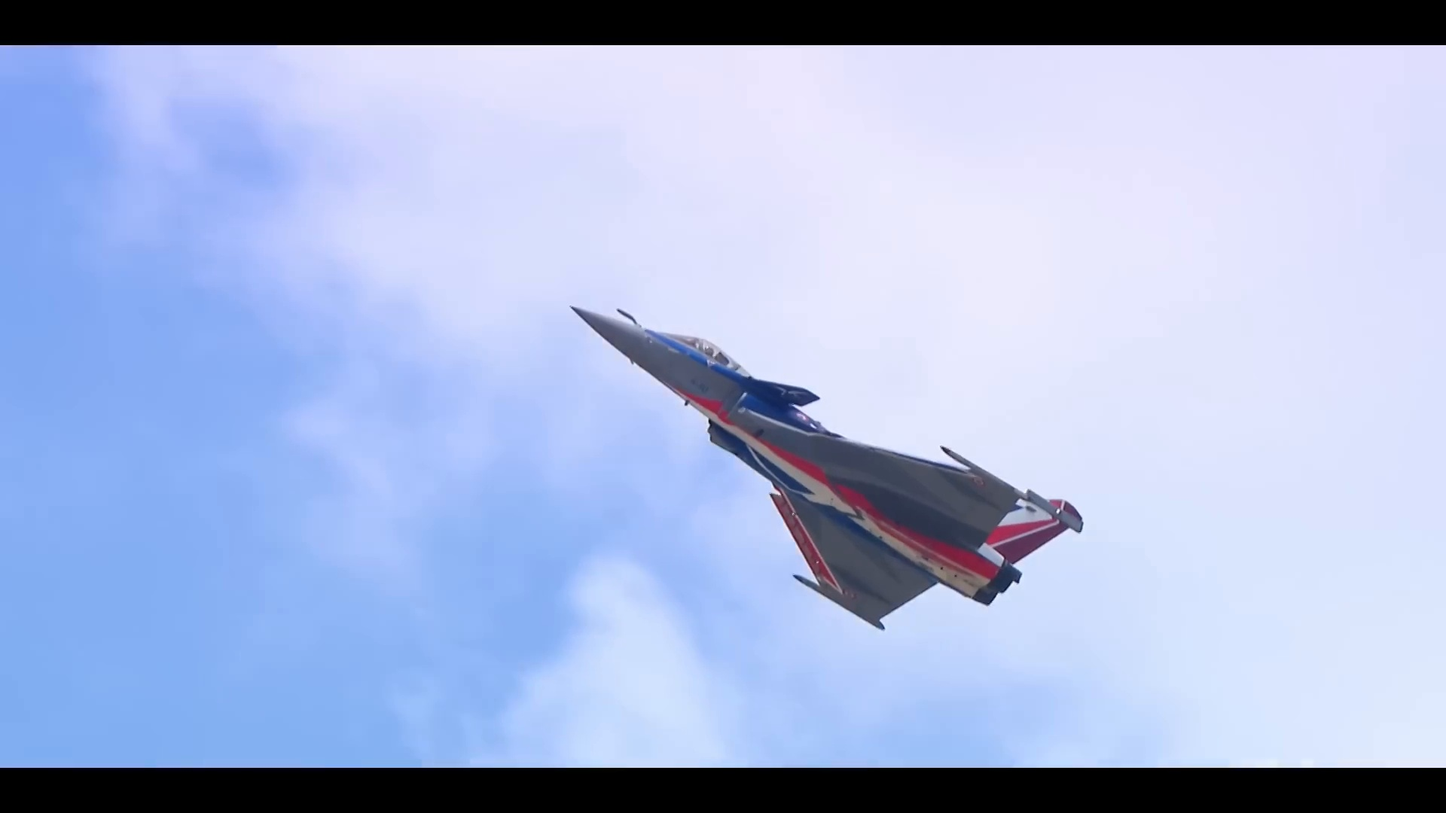Rafale: (559, 287, 1092, 640)
